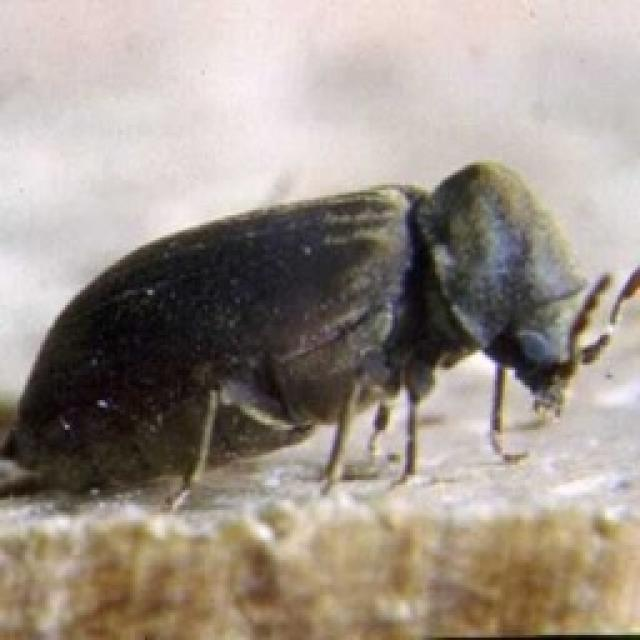cockroach: (4, 156, 636, 508)
